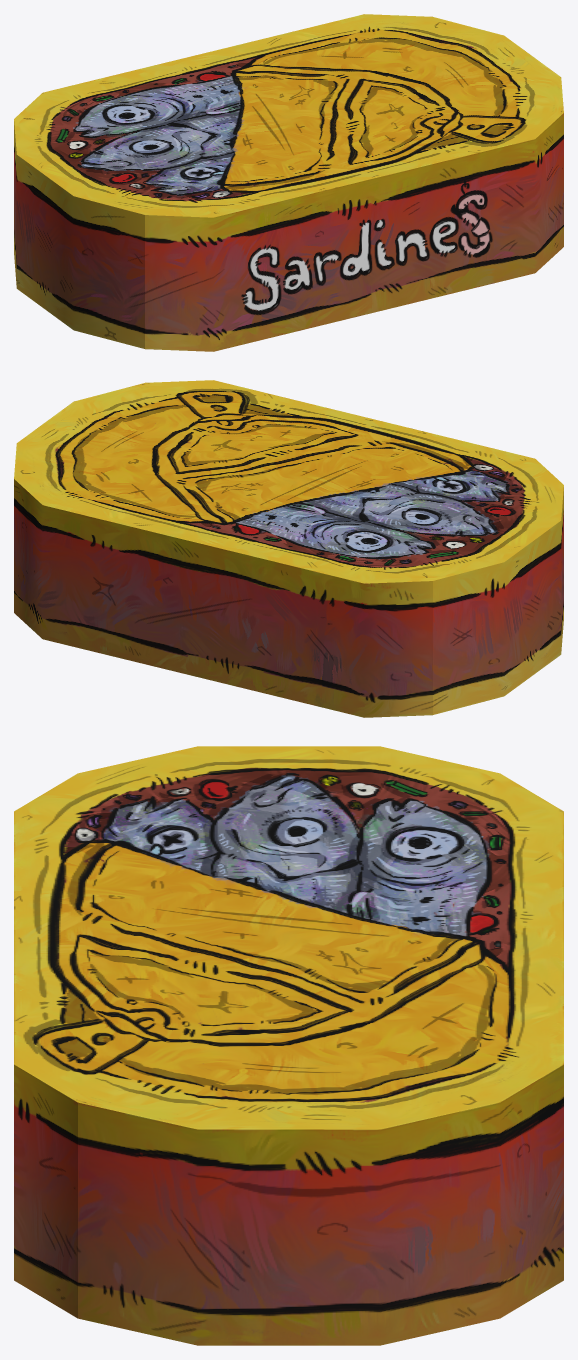
Rendered from Sardine_Can.fbx.
3 renders of one model, top to bottom at view 1: azimuth 30°, elevation 25°; view 2: azimuth 150°, elevation 25°; view 3: azimuth 270°, elevation 25°, orthographic. The views are drawn at different scales.
Parts seen in each view (by area): view 1: pCube1; view 2: pCube1; view 3: pCube1.
Boxes of the visible parts, box(x1,y1,x2,y2) form: pCube1: box(14, 14, 563, 351); pCube1: box(14, 380, 563, 717); pCube1: box(14, 746, 563, 1345).
Bounding box in the file's own units: 1.03 × 0.2706 × 0.6246.
Materials: 1 (1 with a texture image).
